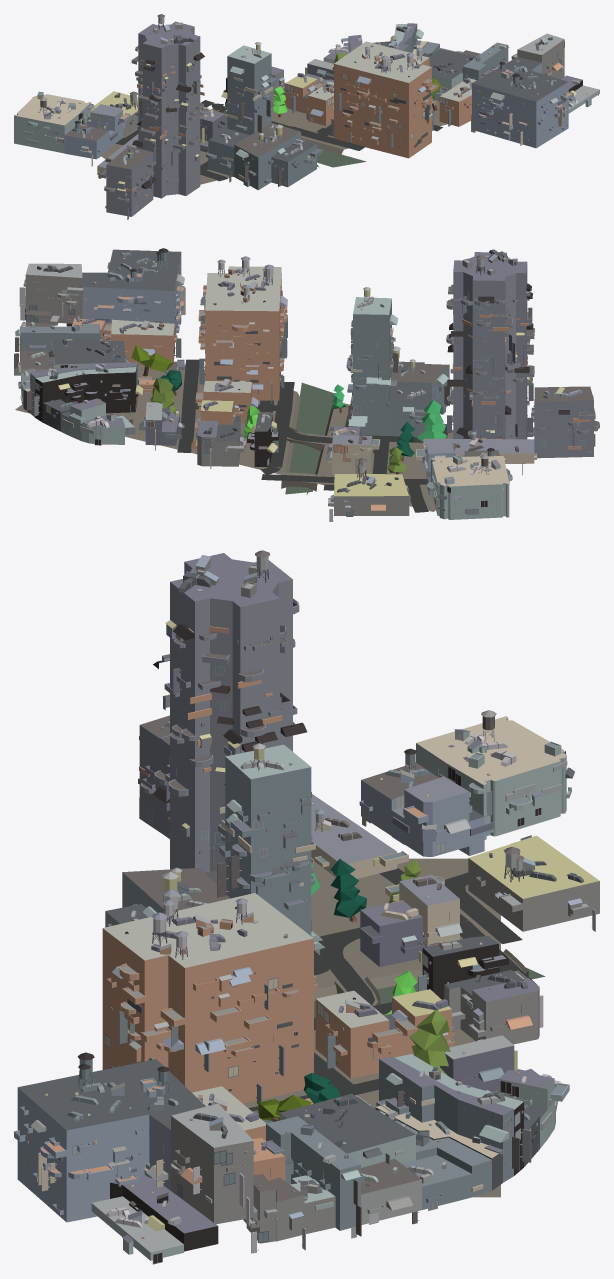
The model's file is MN_Env1.fbx.
3 renders of one model, top to bottom at view 1: azimuth 30°, elevation 25°; view 2: azimuth 150°, elevation 25°; view 3: azimuth 270°, elevation 25°, orthographic. The views are drawn at different scales.
Visible parts, largest first — view 1: Env_MN_01; view 2: Env_MN_01; view 3: Env_MN_01.
Boxes of the visible parts, x1,y1,x2,y2 form: Env_MN_01: (14, 14, 599, 219); Env_MN_01: (14, 248, 599, 521); Env_MN_01: (14, 550, 599, 1264).
Bounding box in the file's own units: 11309 × 3874 × 5851.
